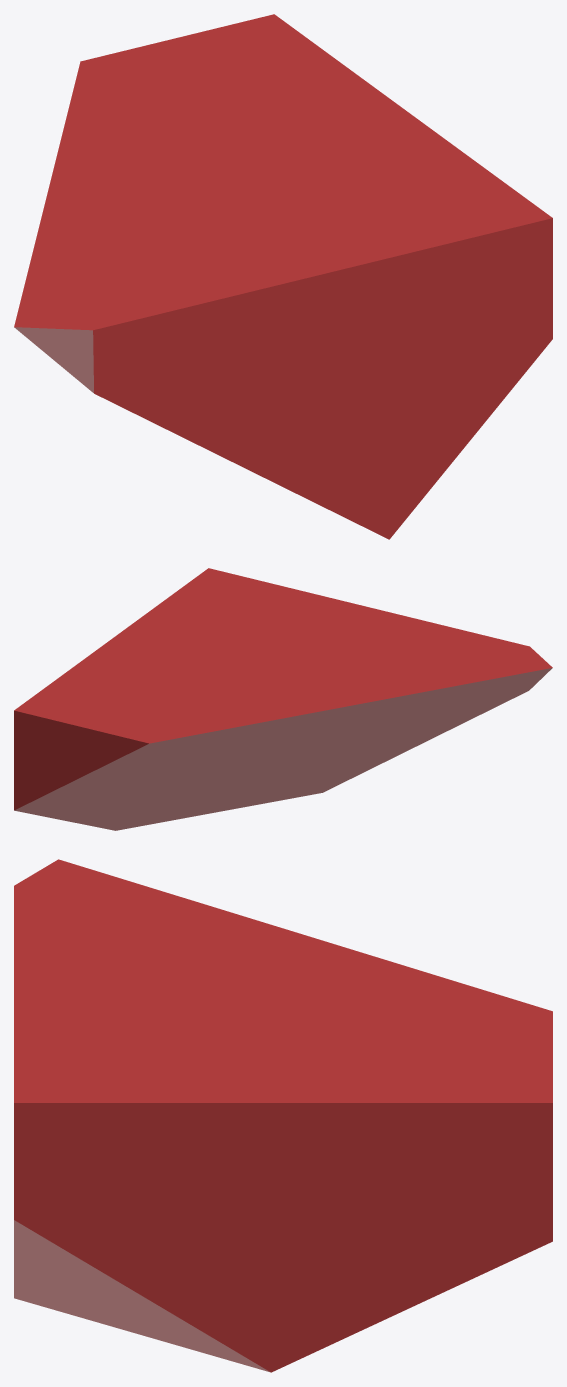
File: right.fbx
The picture shows the model from 3 angles, top to bottom: view 1: azimuth 30°, elevation 25°; view 2: azimuth 150°, elevation 25°; view 3: azimuth 270°, elevation 25°; orthographic projection. The views are drawn at different scales.
Parts seen in each view (by area): view 1: right; view 2: right; view 3: right.
Part boxes in pixels (x1,y1,x2,y2): right: (14,14,552,539); right: (14,568,552,830); right: (14,859,552,1372).
Size of the model in its own units: 62.38 by 32.55 by 58.33.
